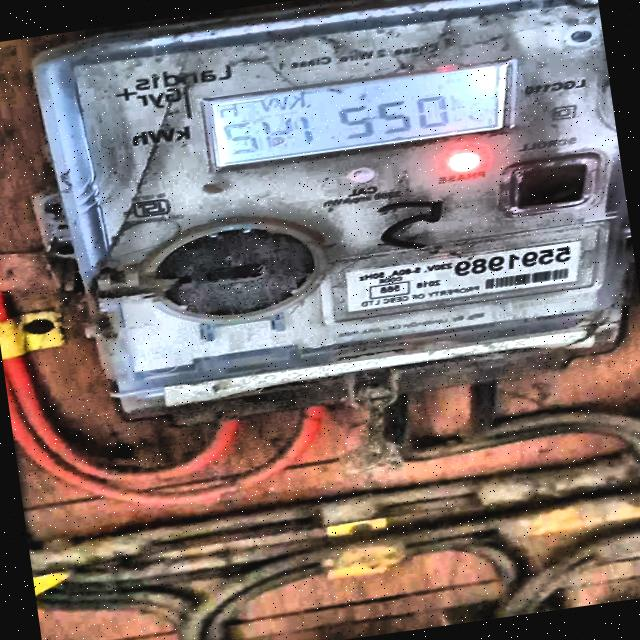Digital: (54, 0, 640, 419)
Reading: (214, 90, 468, 162)
Serial No.: (452, 243, 574, 280)
